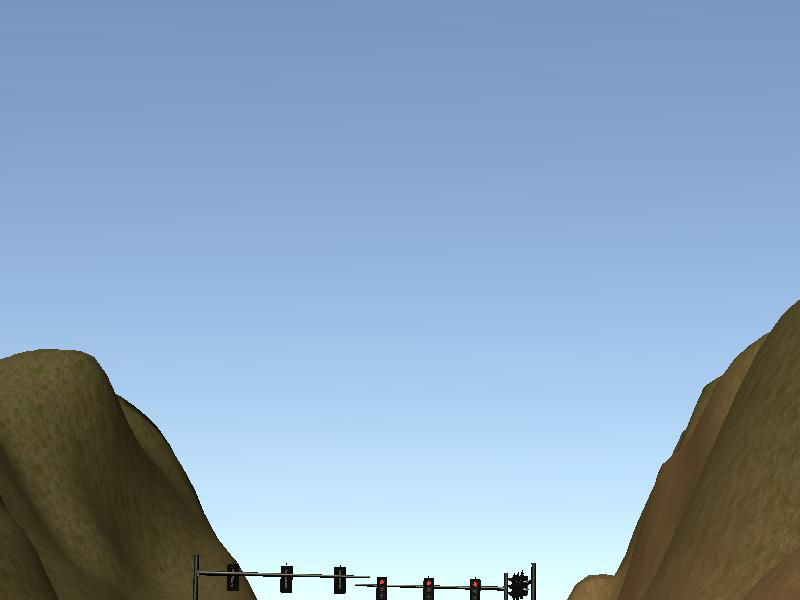red: (376, 576, 388, 600), (469, 579, 482, 600), (423, 577, 433, 600)
